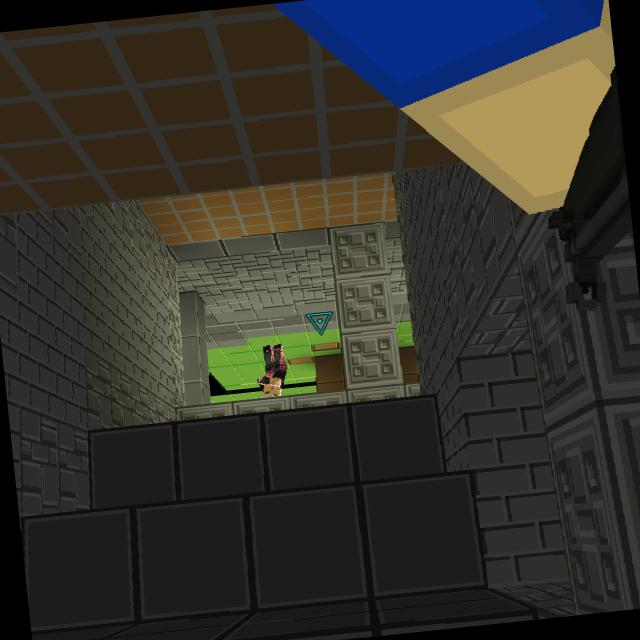enemy: (254, 342, 291, 399)
